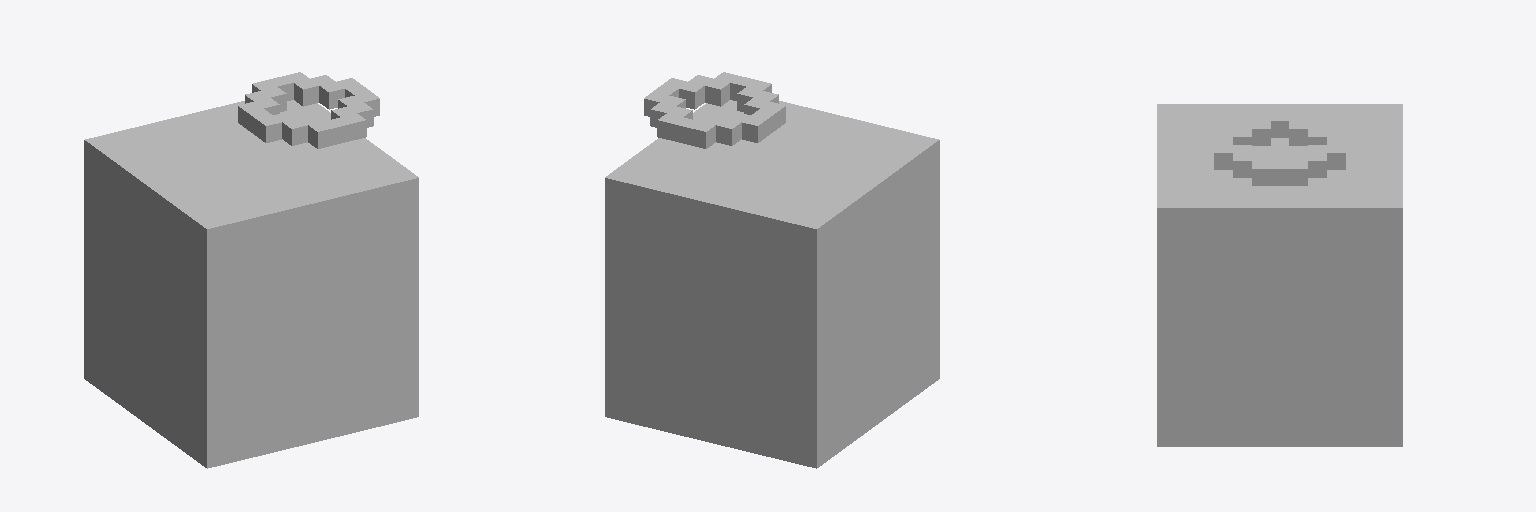
File: holyshock.obj
3 views of the same model, side by side, from view 1: azimuth 30°, elevation 25°; view 2: azimuth 150°, elevation 25°; view 3: azimuth 270°, elevation 25° (orthographic).
Parts seen in each view (by area): view 1: White, yellow_concrete, cube, Orange, red_concrete, lime_concrete, light_blue_concrete; view 2: White, yellow_concrete, cube, Orange, lime_concrete, light_blue_concrete, red_concrete; view 3: White, cube, red_concrete, yellow_concrete, Orange, light_blue_concrete, magenta_concrete.
Boxes of the visible parts, x1=… form: White: x1=84, y1=100, x2=418, y2=468; yellow_concrete: x1=84, y1=134, x2=337, y2=434; cube: x1=238, y1=72, x2=379, y2=148; Orange: x1=211, y1=122, x2=353, y2=406; red_concrete: x1=235, y1=111, x2=402, y2=398; lime_concrete: x1=94, y1=188, x2=197, y2=419; light_blue_concrete: x1=103, y1=256, x2=187, y2=399; White: x1=605, y1=100, x2=939, y2=468; yellow_concrete: x1=686, y1=122, x2=939, y2=434; cube: x1=644, y1=72, x2=785, y2=148; Orange: x1=654, y1=121, x2=870, y2=406; lime_concrete: x1=826, y1=171, x2=929, y2=427; light_blue_concrete: x1=836, y1=256, x2=920, y2=419; red_concrete: x1=621, y1=111, x2=743, y2=398; White: x1=1157, y1=104, x2=1402, y2=446; cube: x1=1214, y1=113, x2=1345, y2=185; red_concrete: x1=1195, y1=168, x2=1364, y2=326; yellow_concrete: x1=1195, y1=104, x2=1364, y2=326; Orange: x1=1195, y1=128, x2=1364, y2=326; light_blue_concrete: x1=1308, y1=276, x2=1345, y2=326; magenta_concrete: x1=1346, y1=259, x2=1364, y2=326.
Bounding box in the file's own units: 0.8438 × 1.03 × 0.8125.